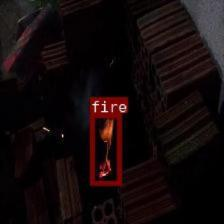fire: (90, 113, 120, 185)
